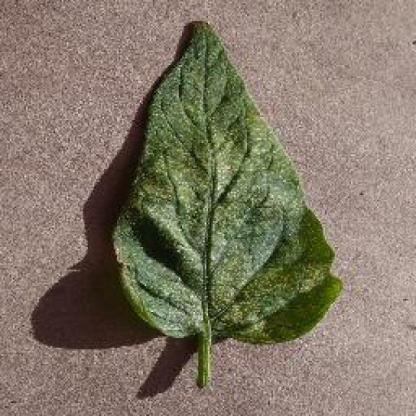Tomato_Spider_Mites: (110, 20, 341, 340)
